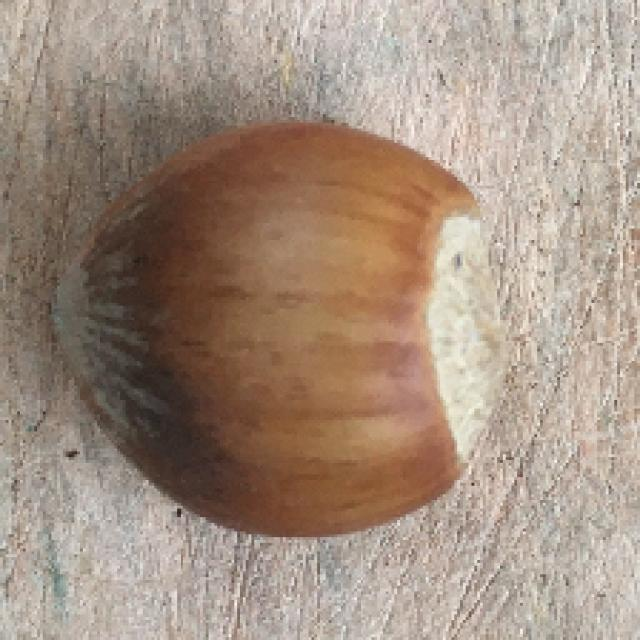damagedHazelnut: (46, 114, 526, 554)
